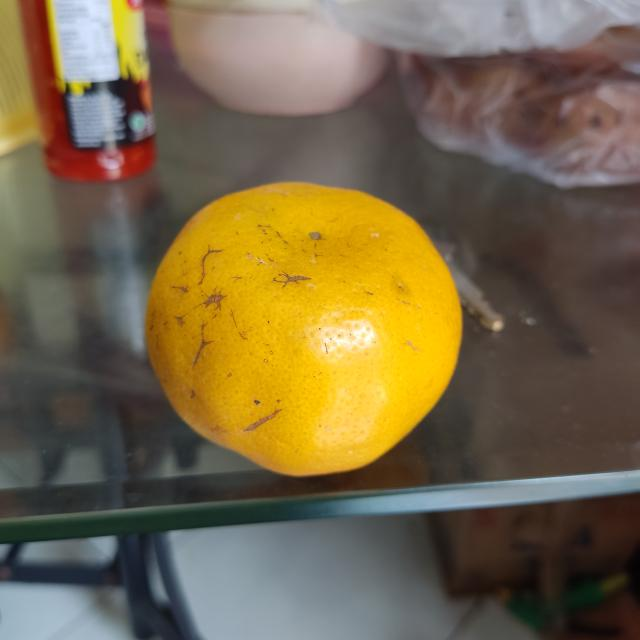orange: (143, 180, 462, 477)
